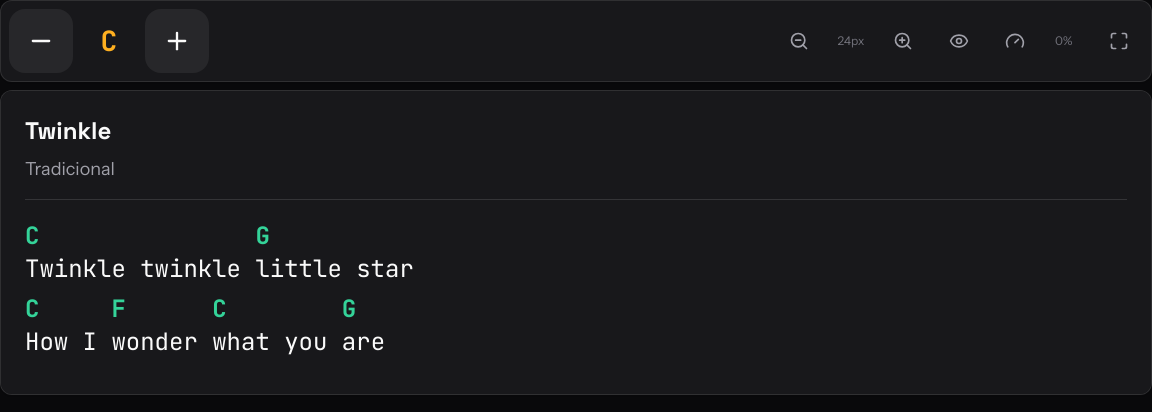
Test: CifraViewer › volta pro tom original descendo o stepper
What coordinates should you click on to do the following:
click the button named "Subir meio tom"
I would click on:
 (177, 41)
Its box is left=145, top=9, right=209, bottom=73.
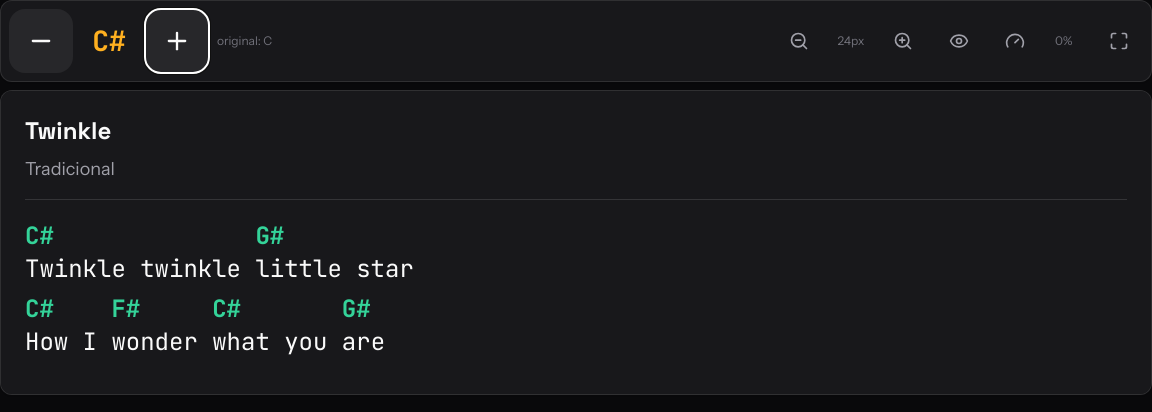
What coordinates should you click on to do the following:
click the button named "Baixar meio tom"
I would click on:
 (41, 41)
Its box is left=9, top=9, right=73, bottom=73.
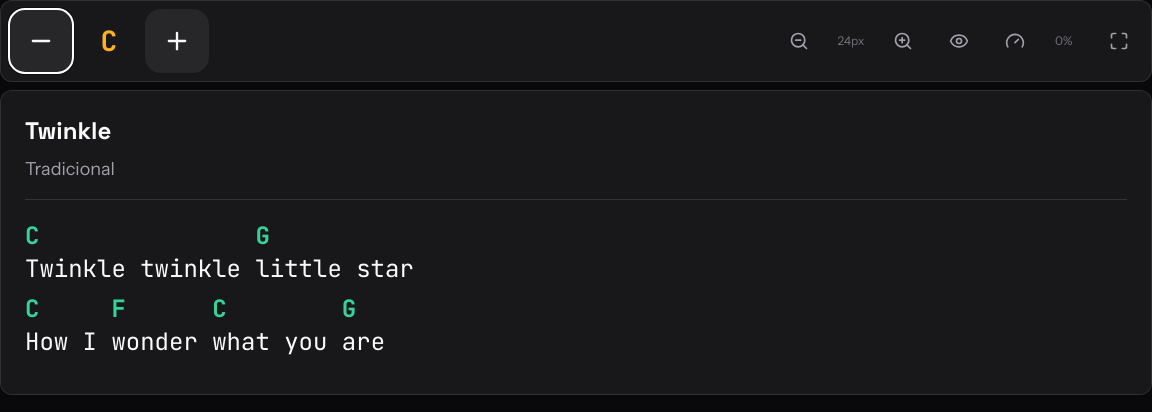
Now the text "original:" is gone
